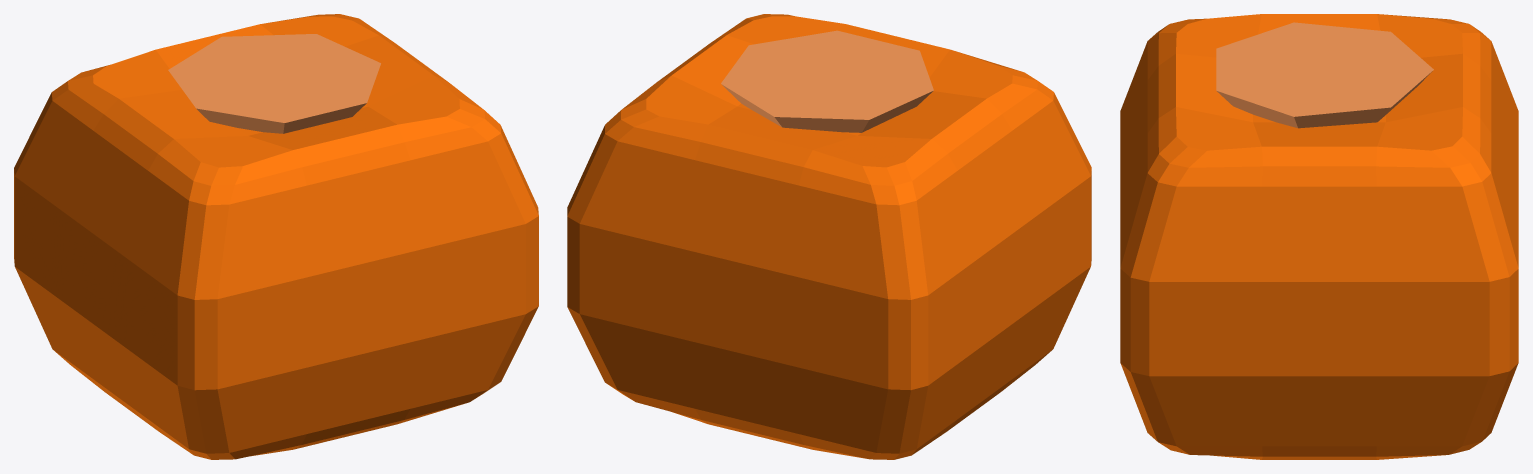
Rendered from kabocha.fbx.
The picture shows the model from 3 angles, left to right: view 1: azimuth 30°, elevation 25°; view 2: azimuth 150°, elevation 25°; view 3: azimuth 270°, elevation 25°; orthographic projection. The views are drawn at different scales.
Visible parts, largest first — view 1: 立方体, 円柱; view 2: 立方体, 円柱; view 3: 立方体, 円柱.
Part boxes in pixels (left/top/right/bottom): 立方体: left=14, top=14, right=538, bottom=459; 円柱: left=168, top=34, right=380, bottom=133; 立方体: left=567, top=14, right=1091, bottom=459; 円柱: left=721, top=30, right=933, bottom=132; 立方体: left=1120, top=14, right=1518, bottom=459; 円柱: left=1216, top=22, right=1433, bottom=128.
Bounding box in the file's own units: 219 × 193 × 200.
